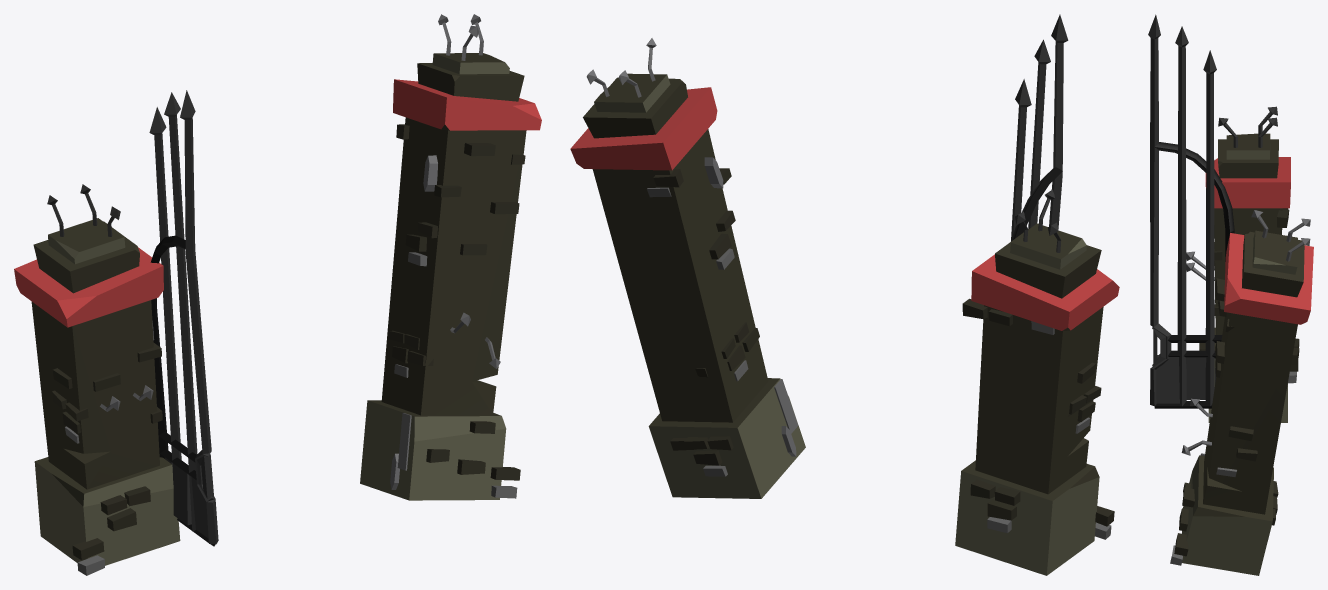
Rendered from ea_arch_wall03_gate_01a_pre_lev1.glb.
3 renders of one model, left to right at view 1: azimuth 30°, elevation 25°; view 2: azimuth 150°, elevation 25°; view 3: azimuth 270°, elevation 25°, orthographic. The views are drawn at different scales.
Parts seen in each view (by area): view 1: ea_arch_wall03_gate_01a_pre_lev1; view 2: ea_arch_wall03_gate_01a_pre_lev1; view 3: ea_arch_wall03_gate_01a_pre_lev1.
Part boxes in pixels (<box>): ea_arch_wall03_gate_01a_pre_lev1: <box>14,14,541,575</box>; ea_arch_wall03_gate_01a_pre_lev1: <box>570,14,1119,575</box>; ea_arch_wall03_gate_01a_pre_lev1: <box>1148,14,1313,575</box>.
Size of the model in its own units: 7.7 by 7.78 by 2.72.
1 material, 1 textured.
